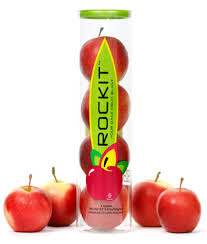apple: (77, 87, 135, 132), (38, 178, 84, 233), (81, 185, 137, 230), (79, 37, 131, 83), (3, 187, 53, 231), (79, 135, 132, 175), (155, 189, 201, 232), (134, 179, 175, 227)
